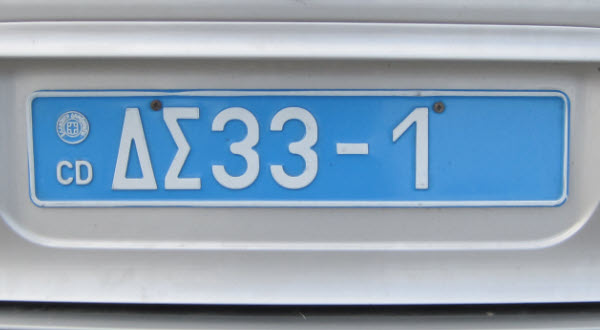license_plate: (25, 89, 569, 207)
